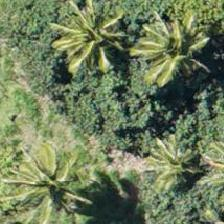coconut_tree: (34, 3, 124, 93), (122, 9, 212, 99), (127, 119, 217, 209), (3, 150, 93, 223)
